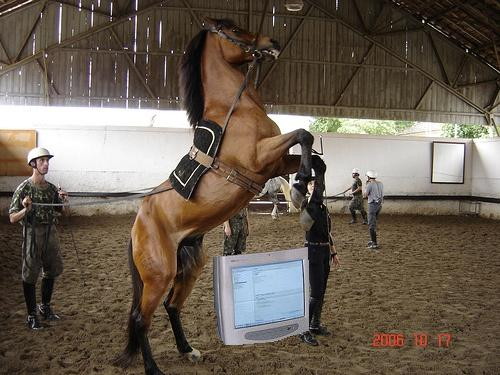tampered: (214, 248, 309, 345)
